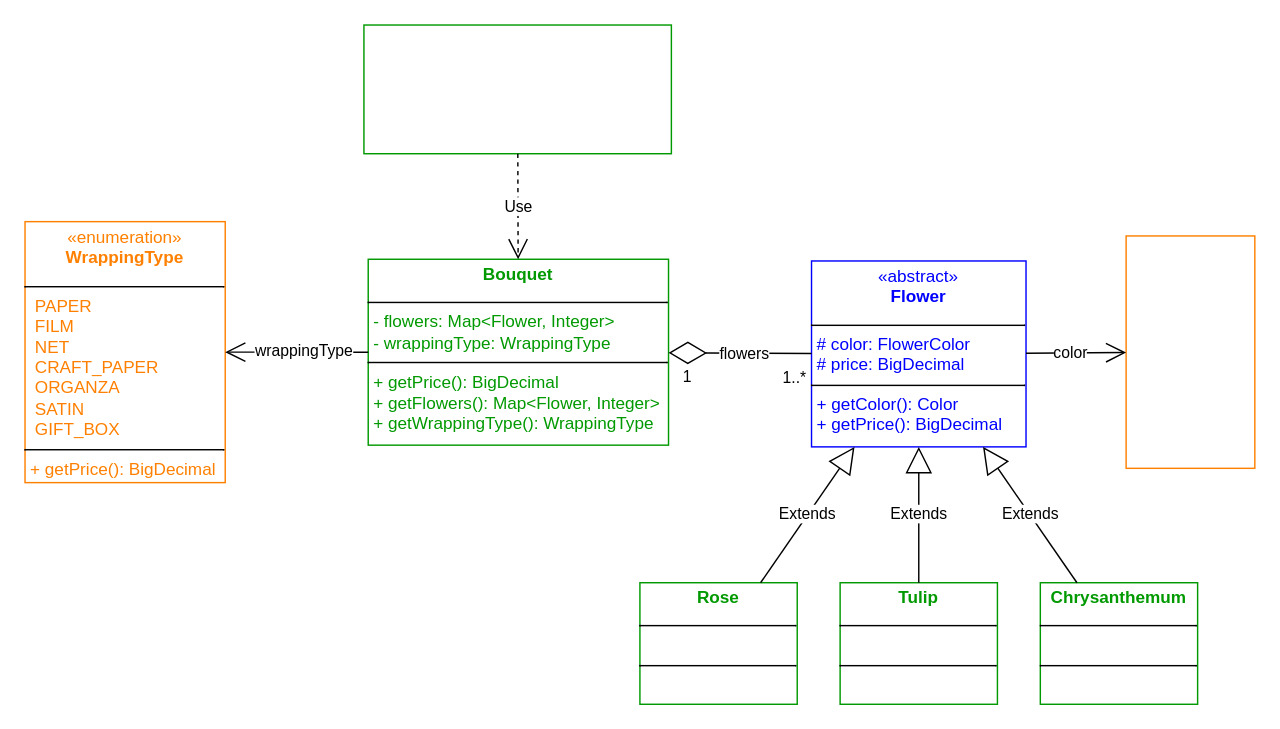
Some shapes in this 1280 by 729 pixel diagram are drawn without their labels. The shapes that lost their labels are listed below. From the top down, each one's centre as x and y in pixels, then its label:
At point 517,89: "FlowerShop + generateRandomBouquet(): Bouquet".
At point 1190,351: "«enumeration » FlowerColor RED WHITE YELLOW PINK ORANGE PURPLE".
